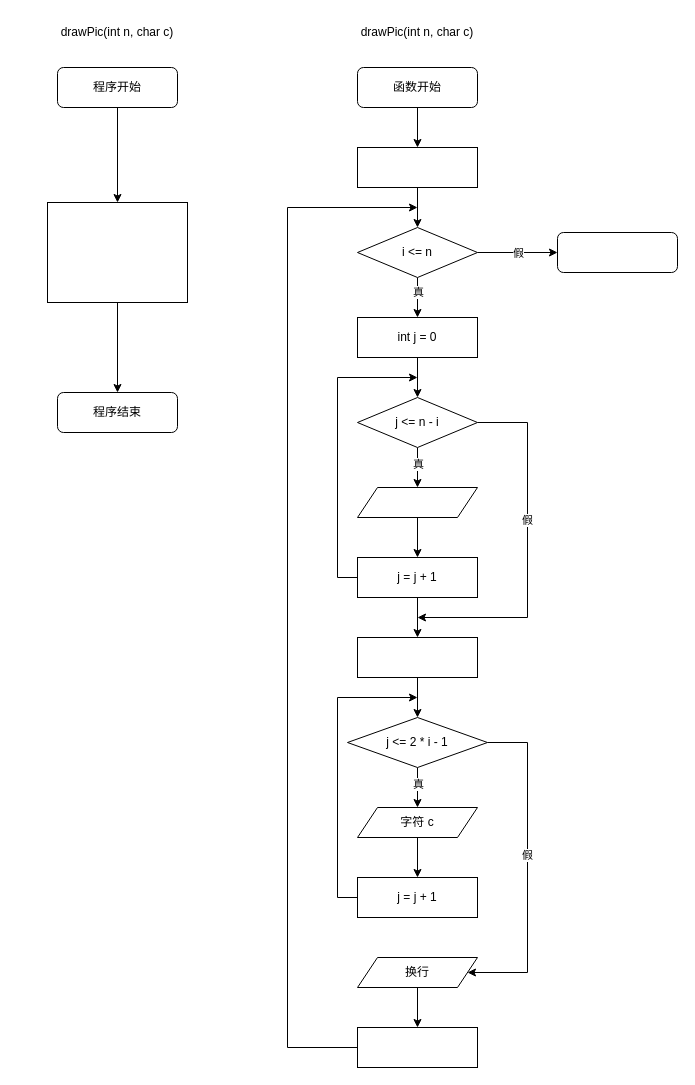
This 695x1085 diagram has some shape labels left out. The centre of each missing label's shape, as x and y in pixels:
"drawPic(7, '*') drawPic(11, '@') drawPic(20, '$')" goes at point 117,252.
"i = i + 1" goes at point 417,1047.
"int i = 1" goes at point 417,167.
"j = 0" goes at point 417,657.
"函数结束" goes at point 617,252.
"空格" goes at point 417,502.
